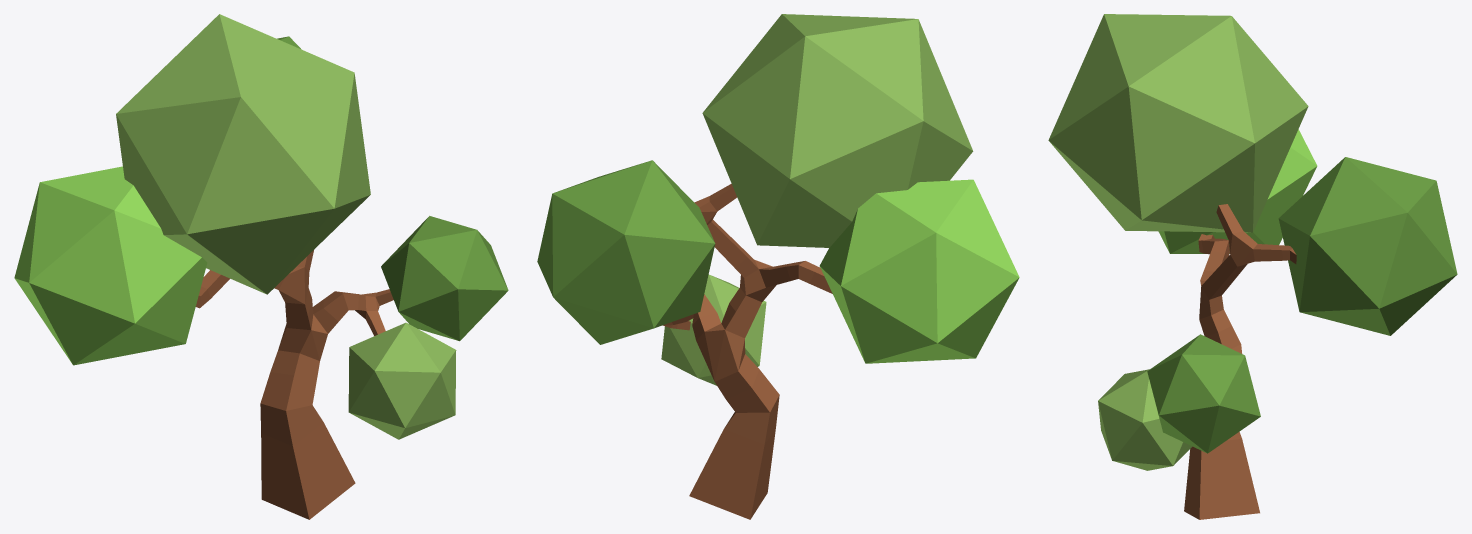
File: arvore5.fbx
3 views of the same model, side by side, from view 1: azimuth 30°, elevation 25°; view 2: azimuth 150°, elevation 25°; view 3: azimuth 270°, elevation 25° (orthographic). The views are drawn at different scales.
Parts seen in each view (by area): view 1: Icosphere.030, Icosphere.032, Cube.001, Icosphere.033, Icosphere.034; view 2: Icosphere.030, Icosphere.032, Icosphere.031, Cube.001, Icosphere.034; view 3: Icosphere.030, Icosphere.031, Cube.001, Icosphere.033, Icosphere.034, Icosphere.032.
Boxes of the visible parts, x1,y1,x2,y2 form: Icosphere.030: [116, 14, 370, 294]; Icosphere.032: [14, 166, 207, 365]; Cube.001: [195, 250, 393, 519]; Icosphere.033: [381, 216, 508, 341]; Icosphere.034: [348, 322, 456, 439]; Icosphere.030: [702, 14, 973, 247]; Icosphere.032: [819, 179, 1019, 363]; Icosphere.031: [537, 160, 715, 344]; Cube.001: [663, 184, 832, 519]; Icosphere.034: [661, 274, 766, 385]; Icosphere.030: [1048, 14, 1308, 232]; Icosphere.031: [1278, 157, 1457, 335]; Cube.001: [1184, 204, 1296, 519]; Icosphere.033: [1147, 334, 1260, 453]; Icosphere.034: [1098, 369, 1192, 470]; Icosphere.032: [1158, 129, 1317, 253].
Size of the model in its own units: 967 by 989 by 786.
